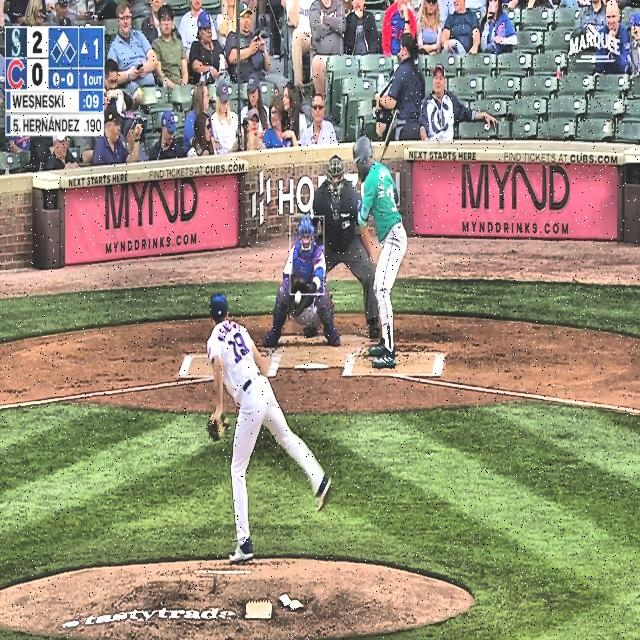baseball: (294, 290, 302, 304)
